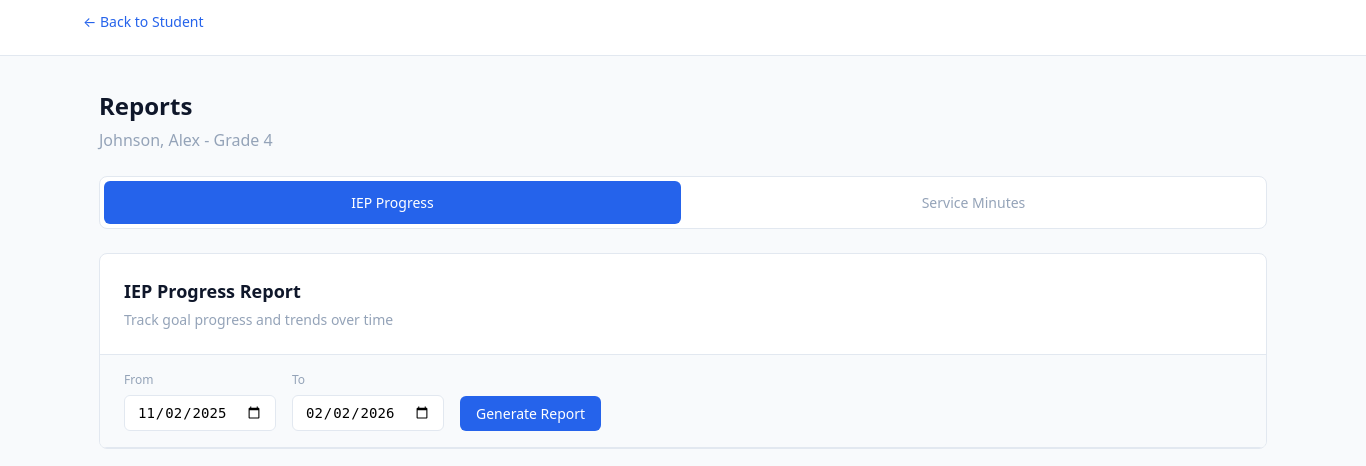
Test: Reports Page › Service Minutes Report › switches to service minutes report on tab click
The width and height of the screenshot is (1366, 466).
Click the button "Service Minutes" at coordinates (974, 202), box left=685, top=181, right=1262, bottom=224
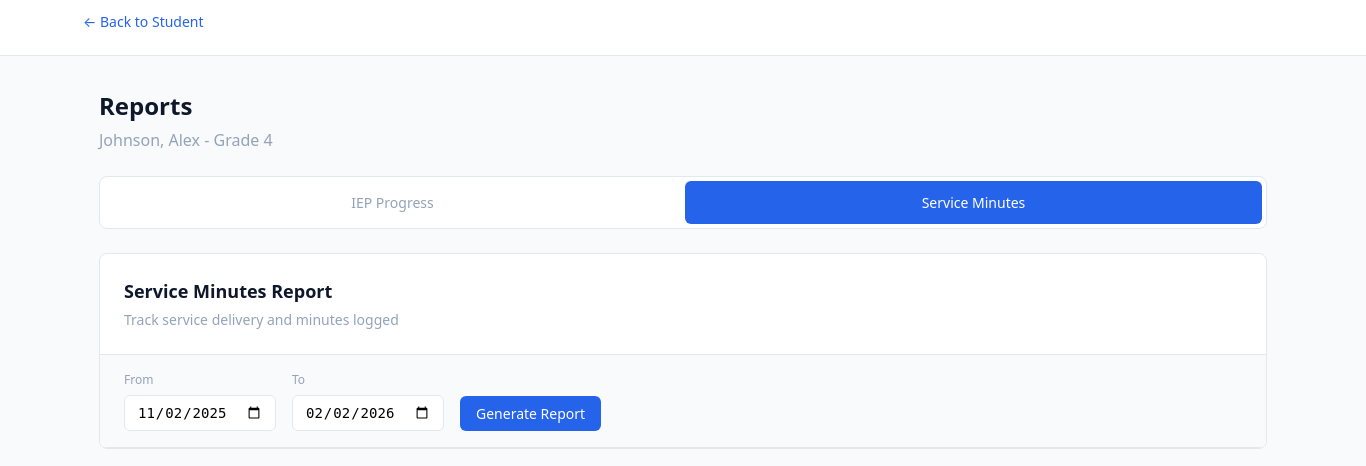
Now the heading "Service Minutes Report" is shown, box left=124, top=279, right=332, bottom=303
Now the text "Track service delivery and minutes logged" is shown, box left=124, top=310, right=399, bottom=329
